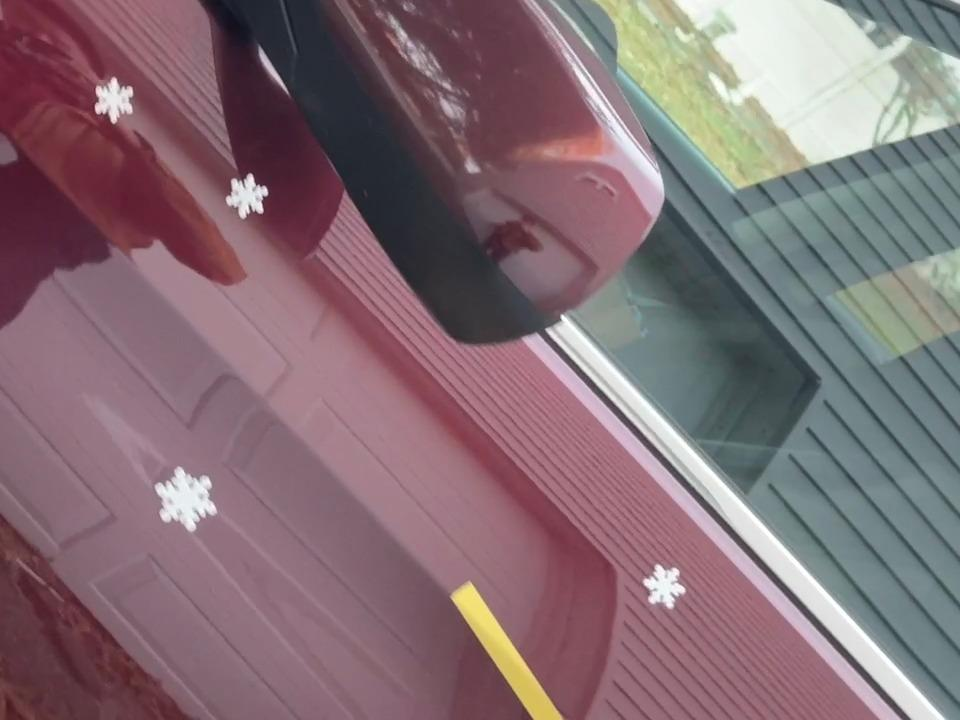dent: (147, 459, 220, 539), (87, 59, 144, 139), (213, 163, 275, 231), (633, 561, 693, 616)
scratch: (441, 569, 579, 720), (0, 584, 14, 720)
